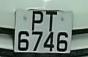4: (43, 31, 56, 53)
6: (16, 30, 31, 53), (56, 31, 70, 53)
7: (30, 30, 45, 54)
P: (29, 10, 45, 32)
T: (43, 11, 59, 32)
